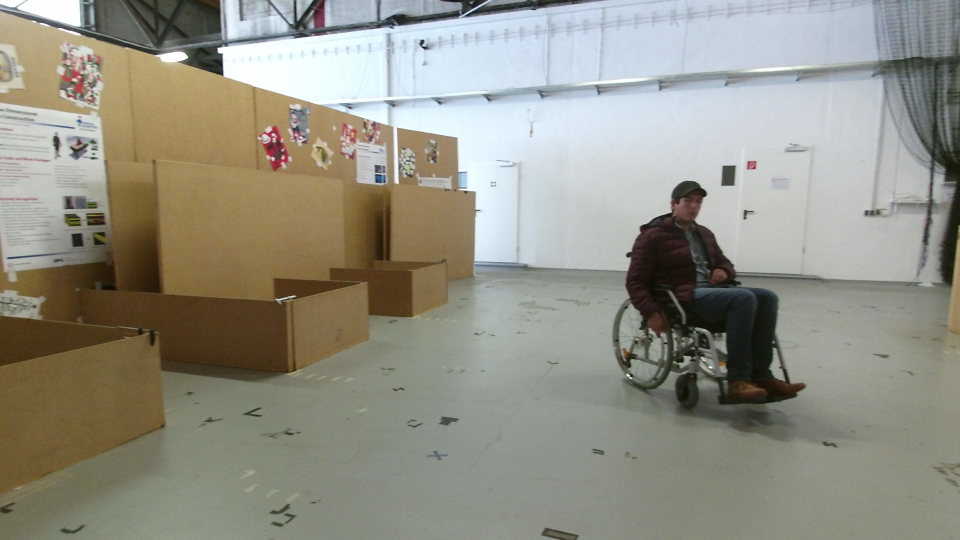wheelchair: (601, 172, 804, 426)
